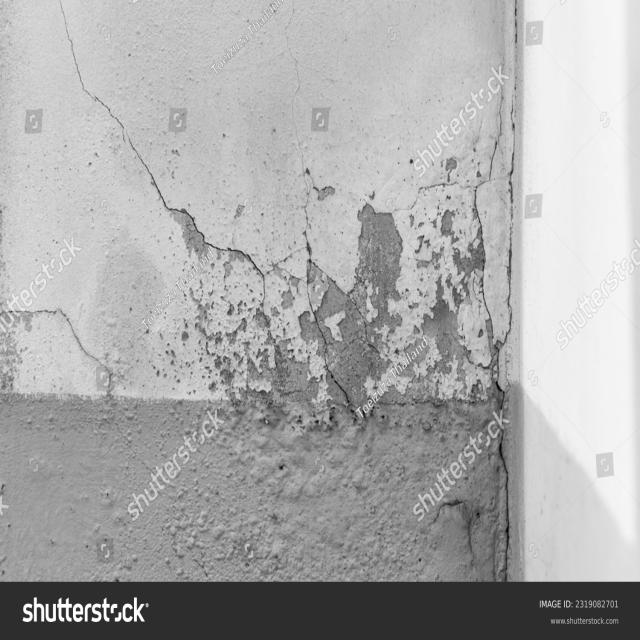peeling paint: (0, 0, 527, 583)
